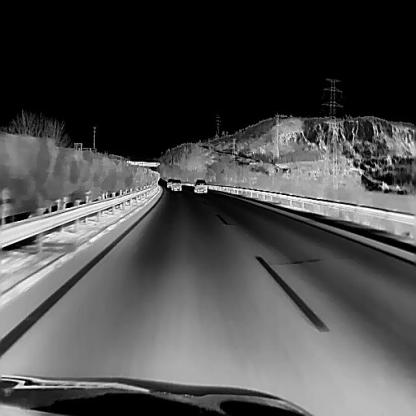car: (193, 178, 207, 192), (171, 179, 181, 189), (166, 177, 173, 187)
